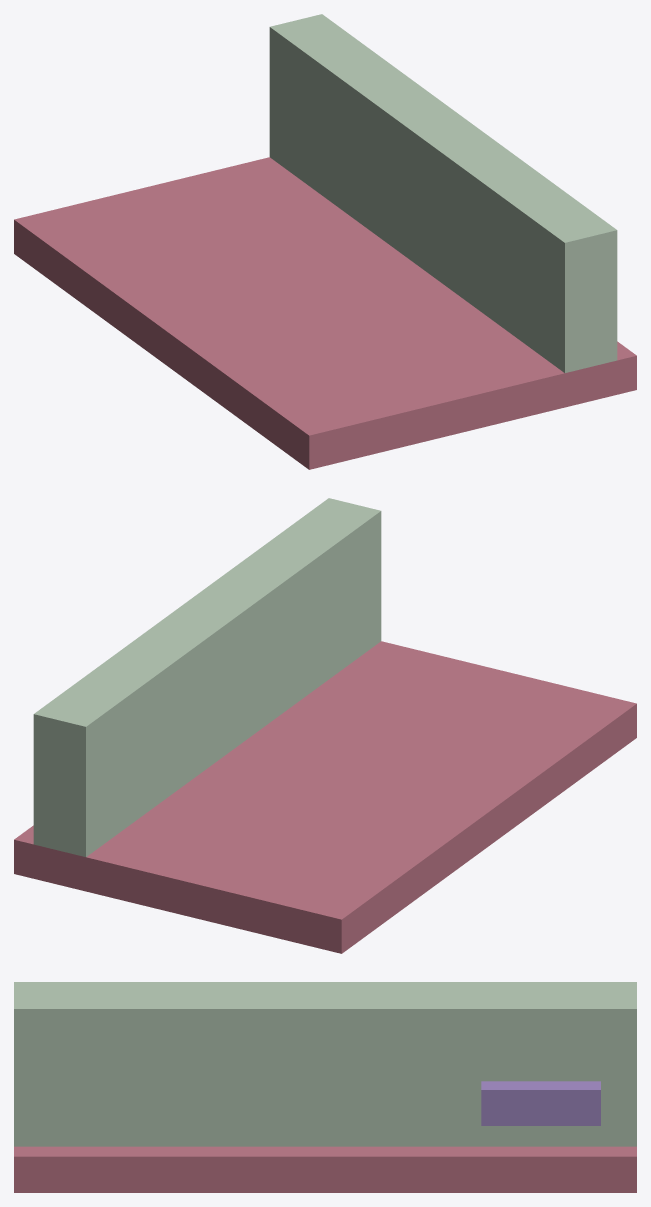
3 views of the same model, one above another, from view 1: azimuth 30°, elevation 25°; view 2: azimuth 150°, elevation 25°; view 3: azimuth 270°, elevation 25° (orthographic). The views are drawn at different scales.
Visible parts, largest first — view 1: world; view 2: world; view 3: world.
Boxes of the visible parts, box(x1,y1,x2,y2) form: world: box(14, 14, 636, 469); world: box(14, 498, 636, 953); world: box(14, 982, 636, 1192).
Size of the model in its own units: 5 by 2.4 by 7.8.
